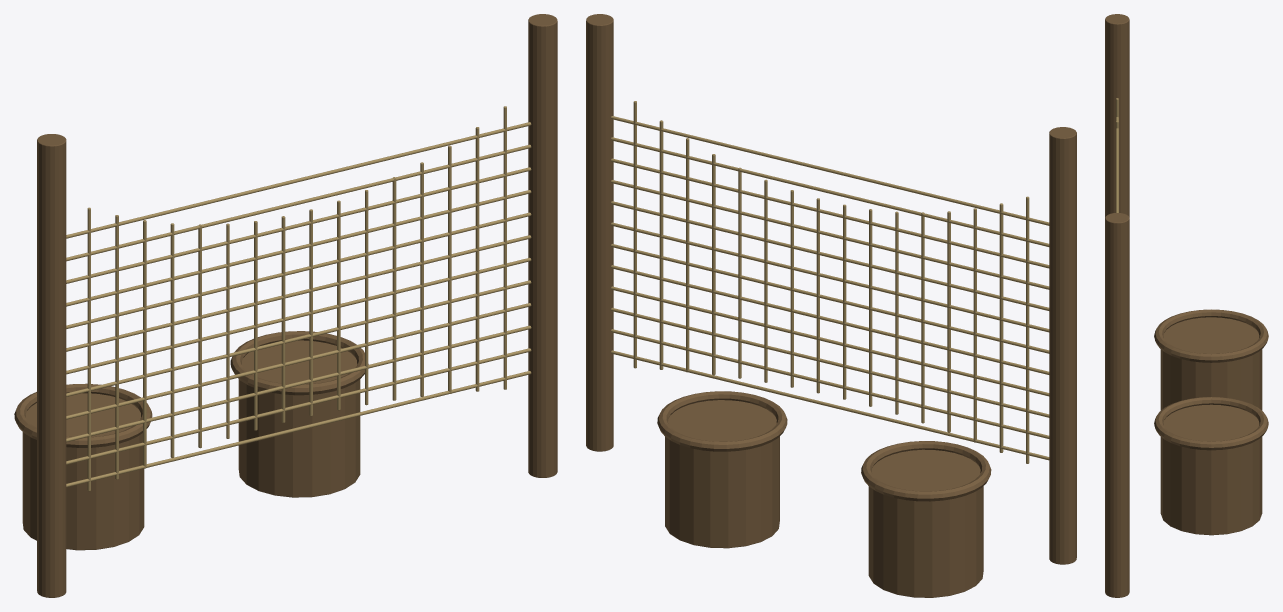
The model's file is FishingNetRack.fbx.
3 views of the same model, side by side, from view 1: azimuth 30°, elevation 25°; view 2: azimuth 150°, elevation 25°; view 3: azimuth 270°, elevation 25° (orthographic). The views are drawn at different scales.
Visible parts, largest first — view 1: FishingNetRack; view 2: FishingNetRack; view 3: FishingNetRack.
Boxes of the visible parts, bbox=[...] form: FishingNetRack: bbox=[14, 14, 557, 597]; FishingNetRack: bbox=[586, 14, 1076, 597]; FishingNetRack: bbox=[1105, 14, 1268, 597].
Size of the model in its own units: 263 by 87 by 220.
